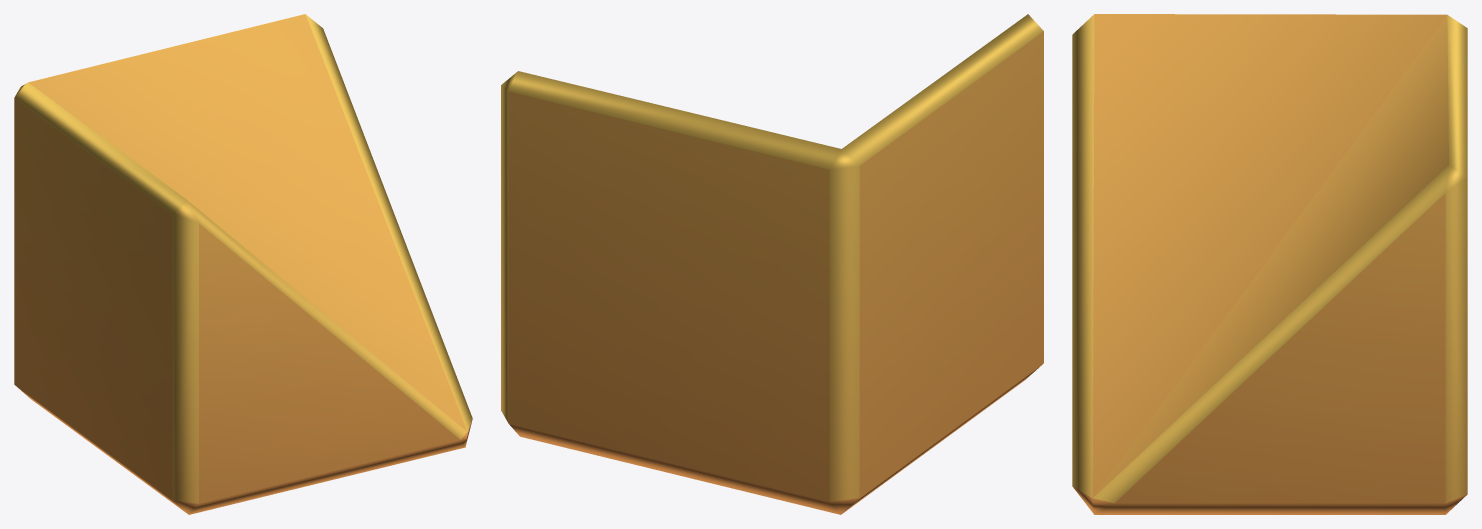
File: ramp_corner_conc.fbx
3 renders of one model, left to right at view 1: azimuth 30°, elevation 25°; view 2: azimuth 150°, elevation 25°; view 3: azimuth 270°, elevation 25°, orthographic. The views are drawn at different scales.
Parts seen in each view (by area): view 1: ramp_corner_conc; view 2: ramp_corner_conc; view 3: ramp_corner_conc.
Boxes of the visible parts, x1,y1,x2,y2 form: ramp_corner_conc: (14, 14, 472, 514); ramp_corner_conc: (501, 14, 1043, 514); ramp_corner_conc: (1072, 14, 1467, 514).
Size of the model in its own units: 100 by 97.79 by 100.
